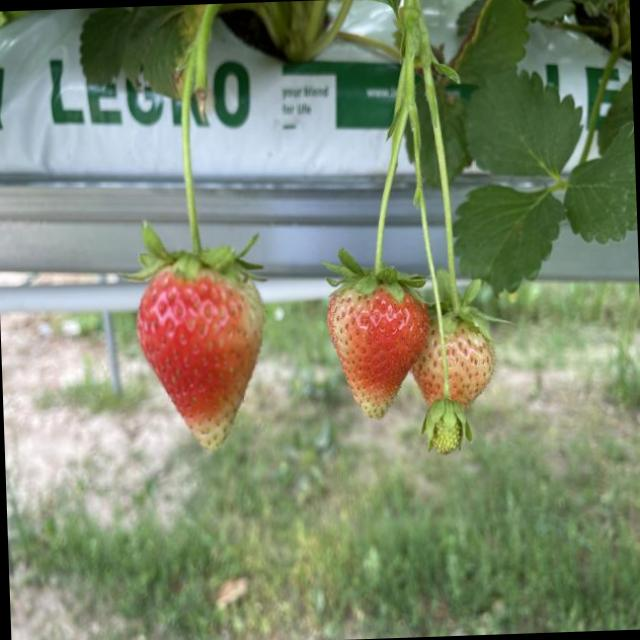stem: (323, 142, 424, 301), (436, 159, 493, 341)
strawberryNR: (445, 321, 495, 407), (412, 328, 444, 405)
strawberryR: (125, 3, 262, 282), (137, 268, 263, 450), (328, 287, 427, 418)
